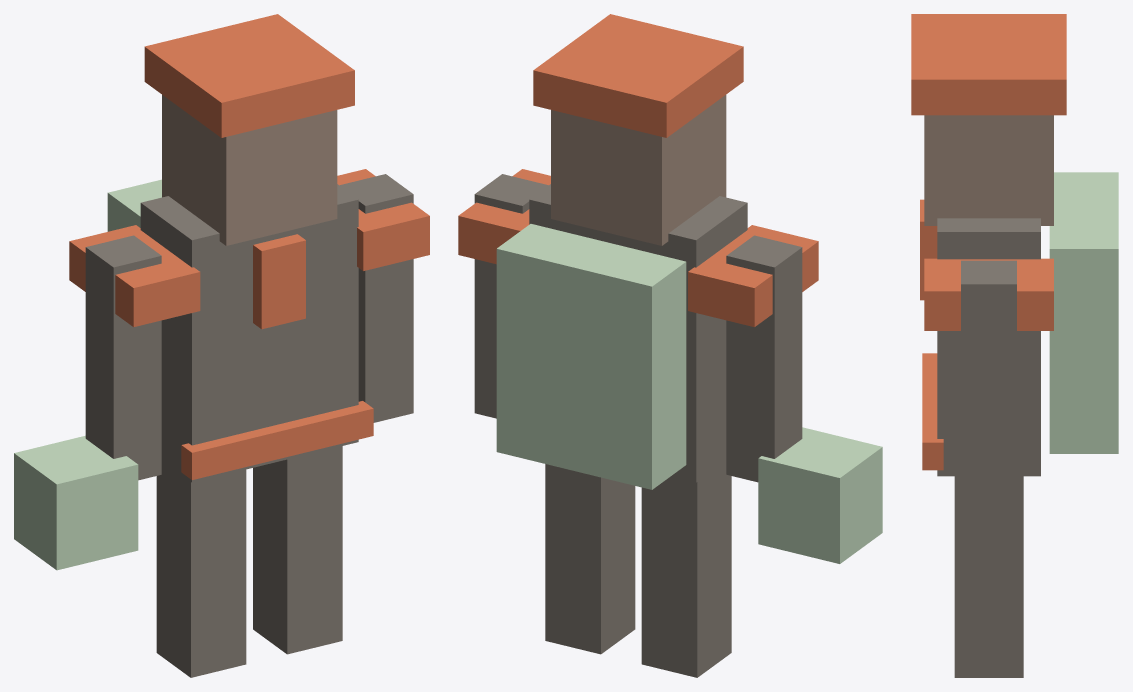
File: 10_calder_latchward_navigator_near_furnace.glb
3 views of the same model, side by side, from view 1: azimuth 30°, elevation 25°; view 2: azimuth 150°, elevation 25°; view 3: azimuth 270°, elevation 25° (orthographic).
Parts seen in each view (by area): view 1: Calder Latchward, Navigator near Furnace; view 2: Calder Latchward, Navigator near Furnace; view 3: Calder Latchward, Navigator near Furnace.
Part boxes in pixels (x1,y1,x2,y2): Calder Latchward, Navigator near Furnace: [14, 14, 429, 677]; Calder Latchward, Navigator near Furnace: [458, 14, 882, 677]; Calder Latchward, Navigator near Furnace: [911, 14, 1118, 677].
Bounding box in the file's own units: 1.09 × 1.66 × 0.526.
